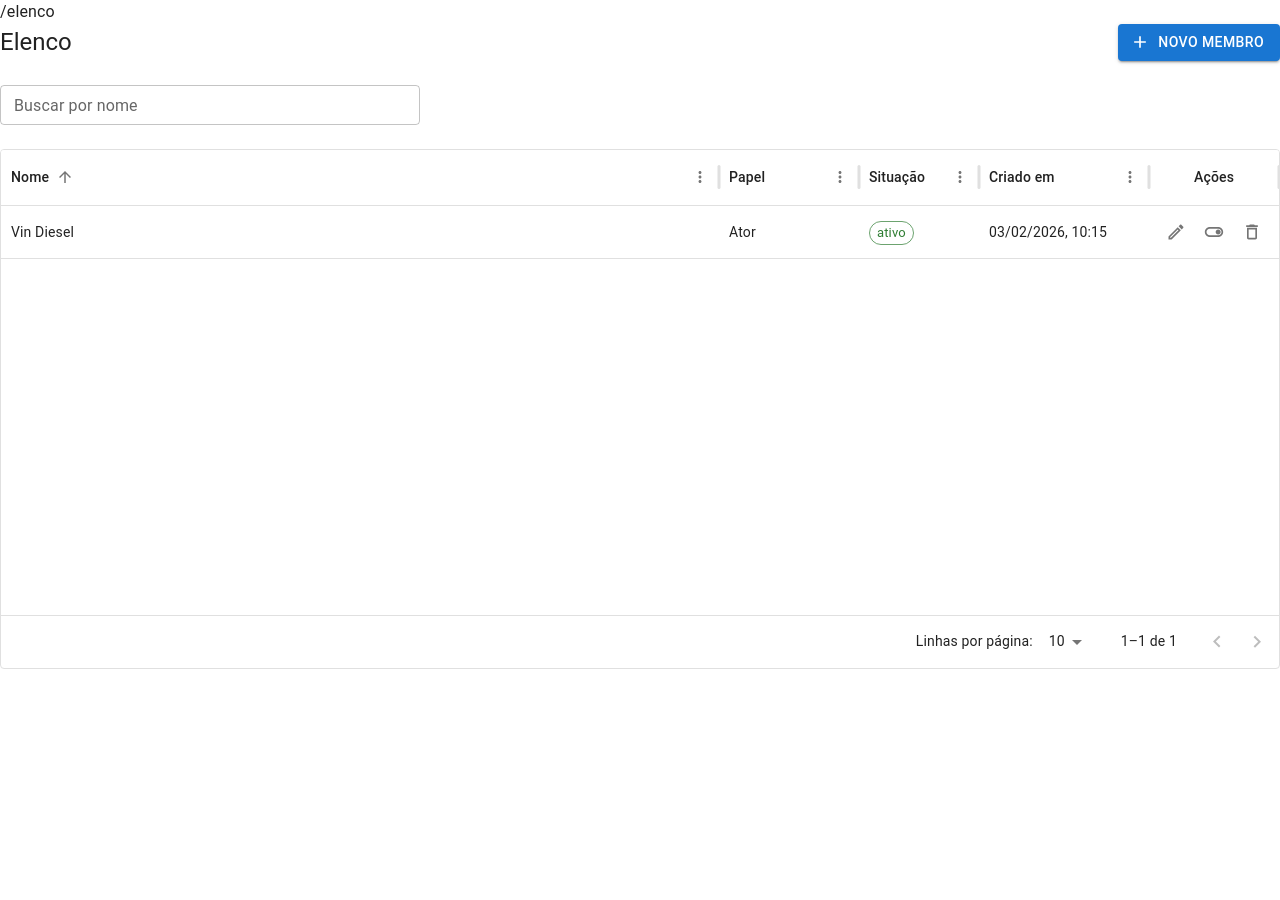
Test: CastMemberList › givenAPerguntaAberta_whenConfirma_thenChamaODelete
This screenshot has width=1280, height=900.
Expected: the text "Vin Diesel" is shown, [11,224,74,240]
Click the menu item named "Remover" at (1252, 232), box [1237,217,1267,247]
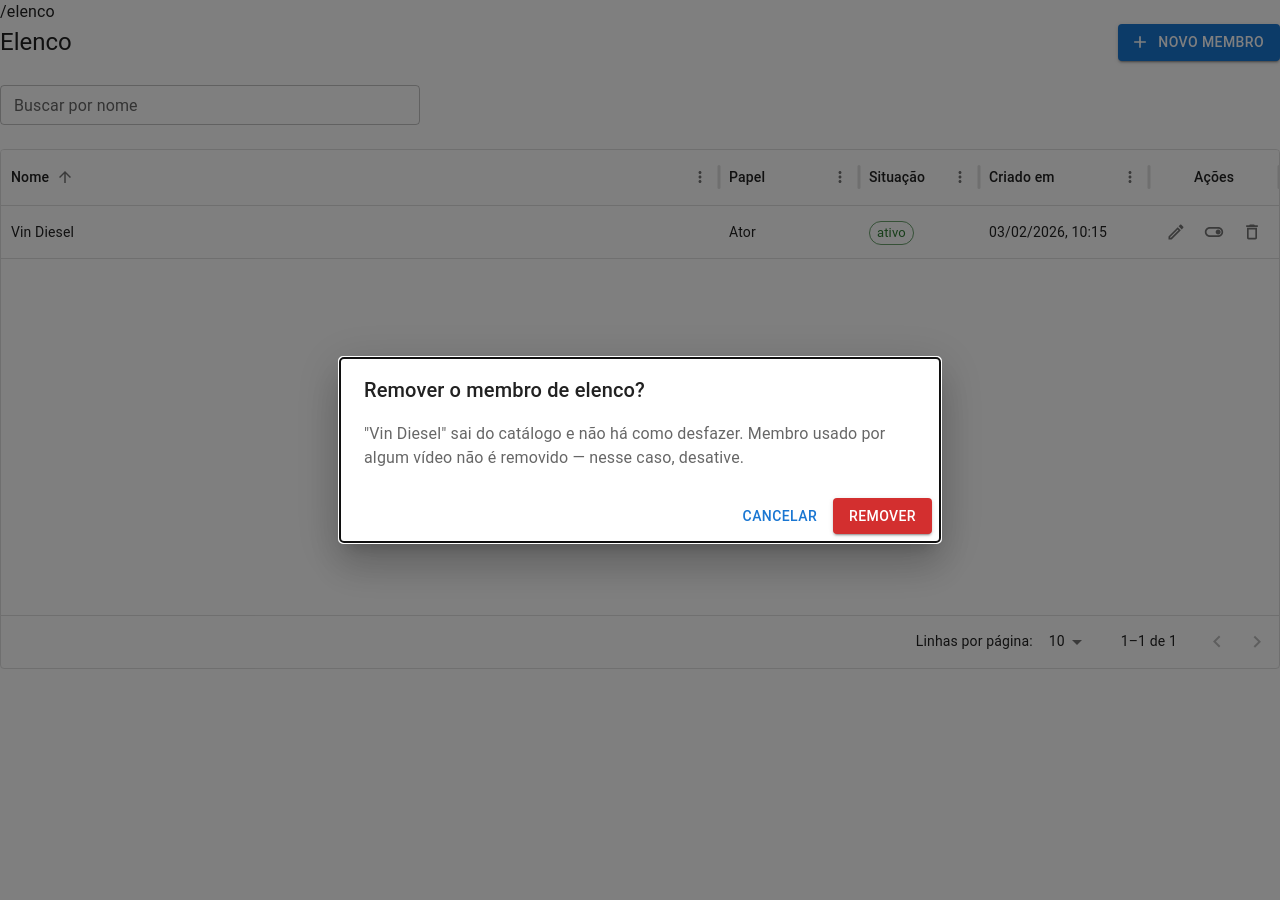
Click the button "Remover" at (882, 516), box [833,498,932,534]
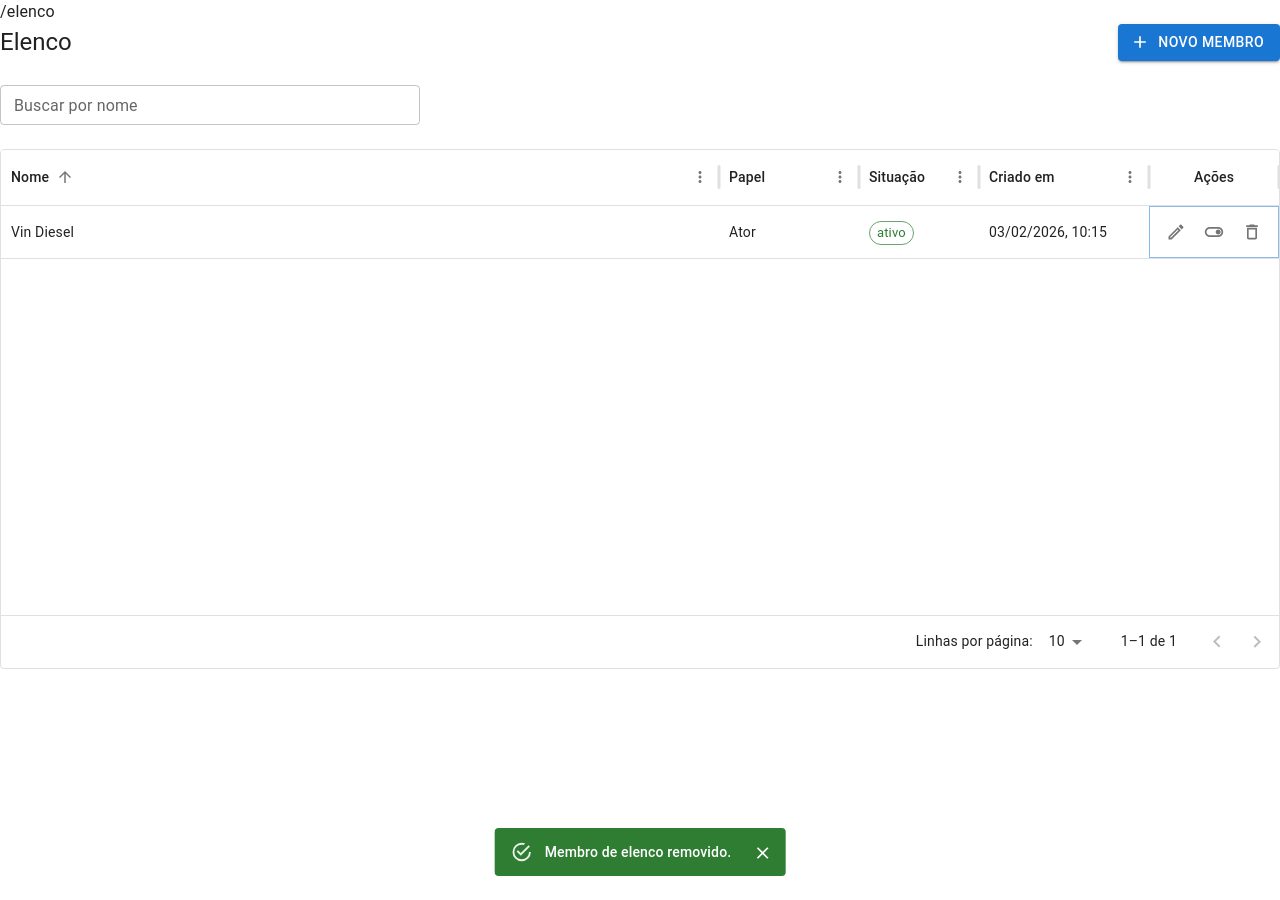
Result: the text "Membro de elenco removido." is shown at [545,844,731,860]
